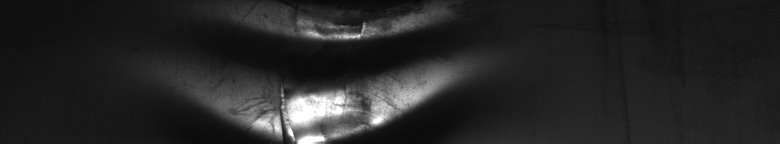ke: (207, 4, 459, 136)
